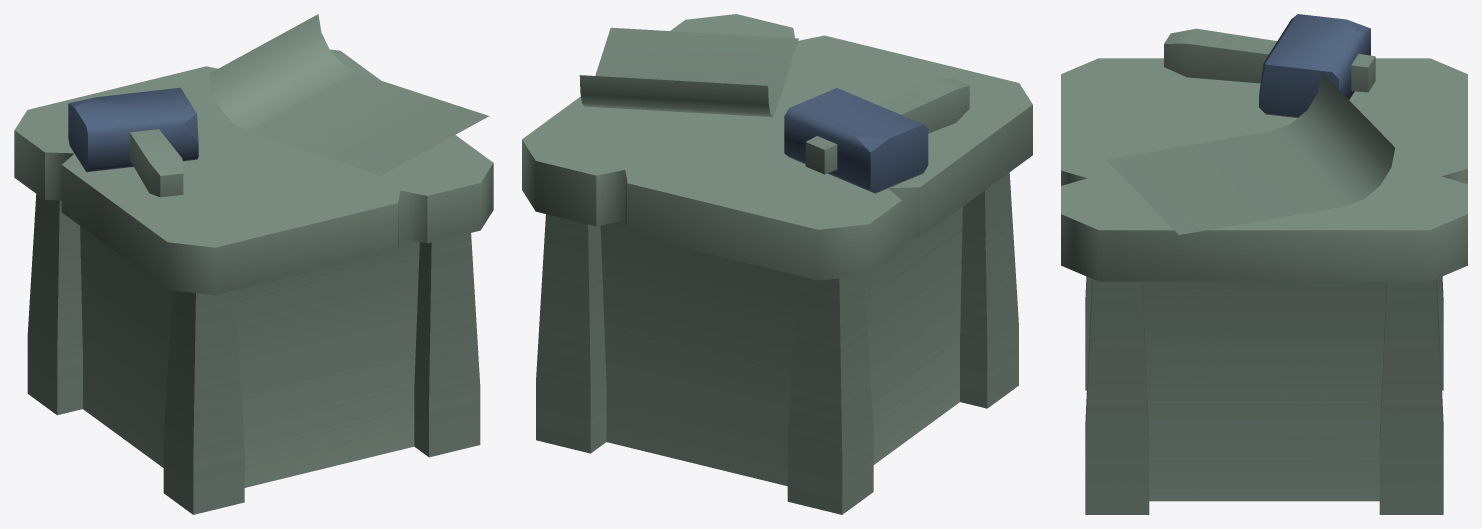
File: survival-kit__workbench.glb
3 views of the same model, side by side, from view 1: azimuth 30°, elevation 25°; view 2: azimuth 150°, elevation 25°; view 3: azimuth 270°, elevation 25° (orthographic). The views are drawn at different scales.
Parts seen in each view (by area): view 1: workbench, paper, hammer; view 2: workbench, paper, hammer; view 3: workbench, paper, hammer.
Boxes of the visible parts, <box> form: workbench: <box>14,49,493,514</box>; paper: <box>209,14,489,175</box>; hammer: <box>68,87,198,197</box>; workbench: <box>522,14,1032,514</box>; paper: <box>579,27,798,117</box>; hammer: <box>784,78,969,193</box>; workbench: <box>1061,58,1467,514</box>; paper: <box>1106,72,1394,234</box>; hammer: <box>1164,14,1375,117</box>.
Bounding box in the file's own units: 5.11 × 4.5 × 4.64.
1 material, 1 textured.
